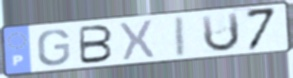7: (245, 6, 279, 54)
B: (78, 24, 115, 66)
G: (37, 28, 72, 68)
I: (173, 14, 188, 59)
U: (200, 10, 242, 54)
X: (118, 18, 157, 62)
